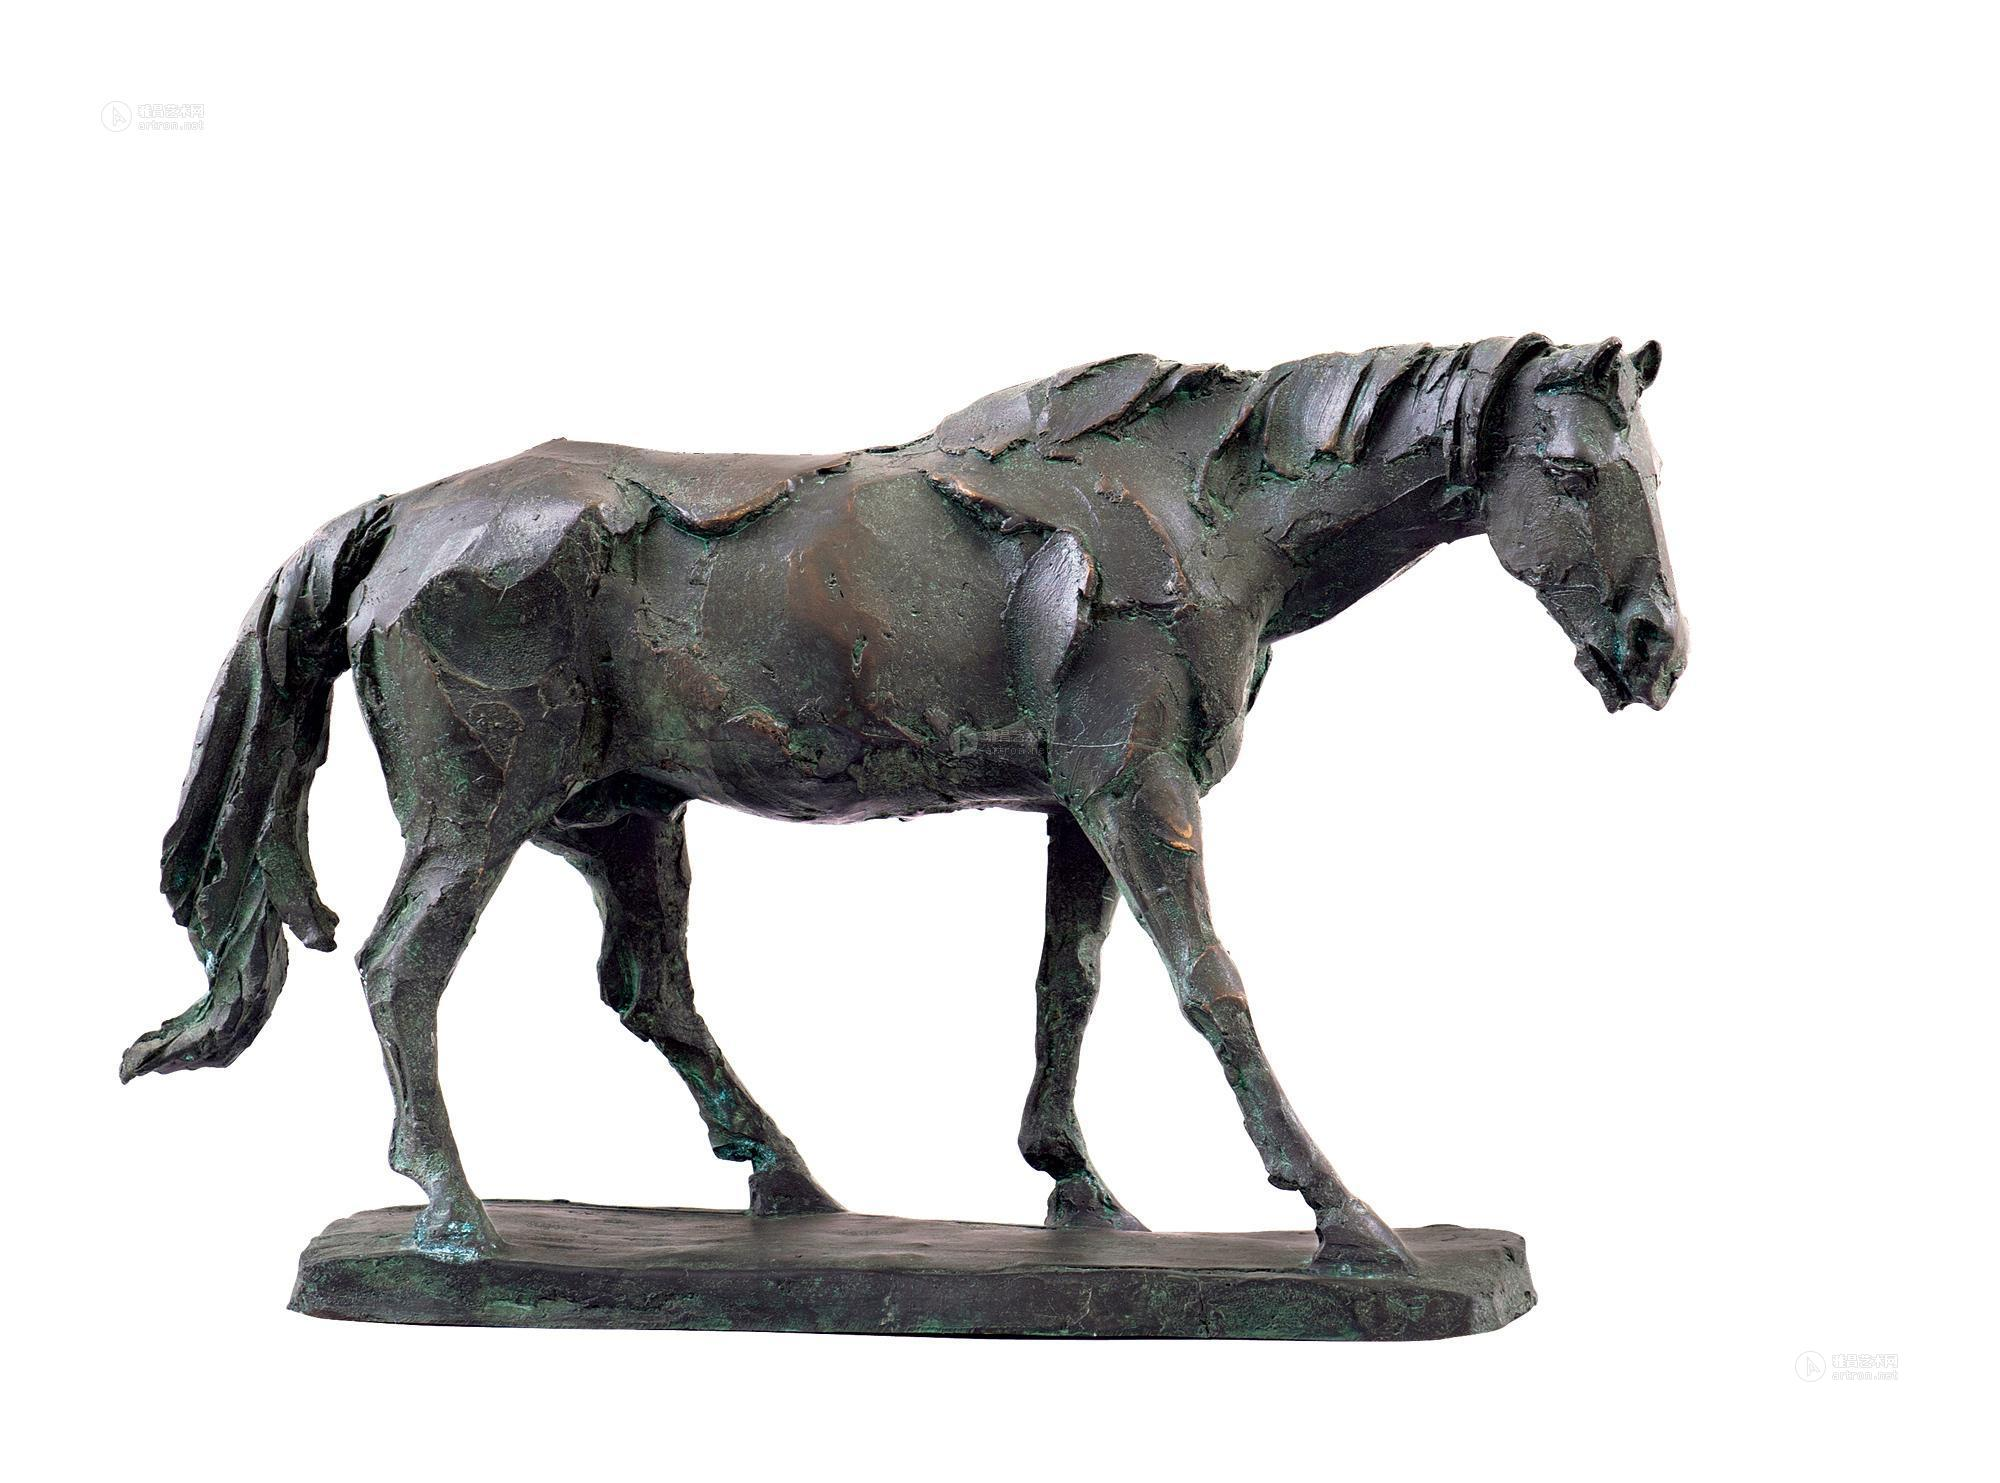background: (107, 333, 1698, 1295)
